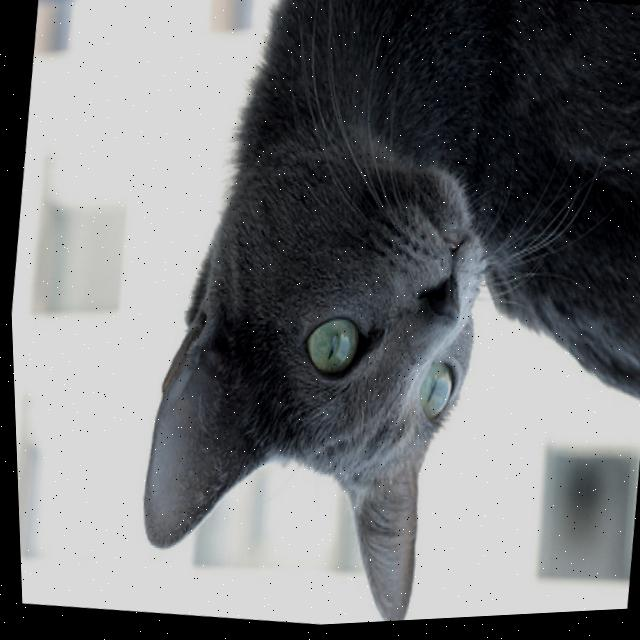Russian Blue: (107, 0, 640, 636)
